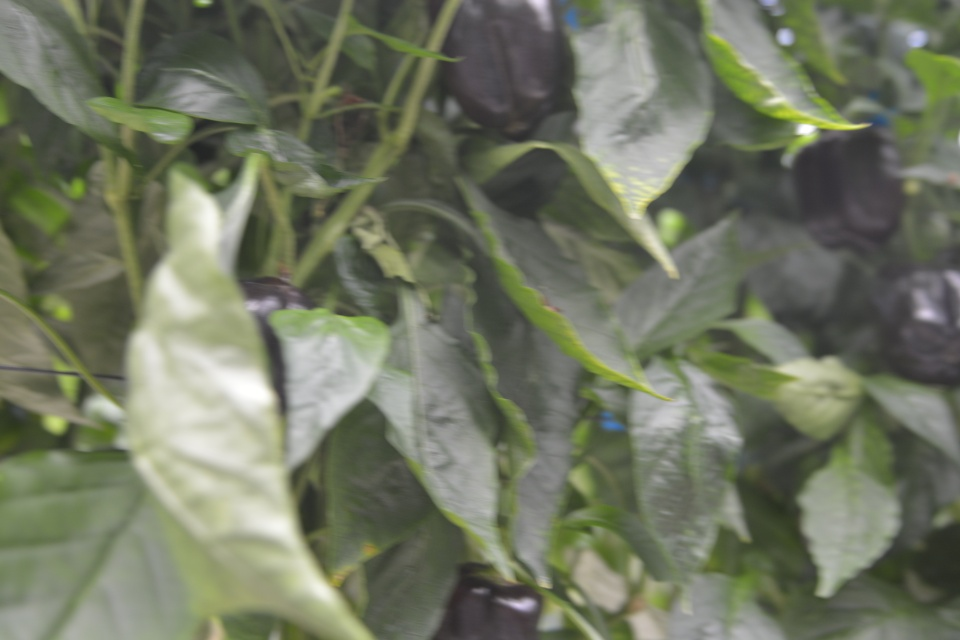fruit: (428, 0, 572, 138), (763, 120, 908, 252), (870, 259, 960, 389), (236, 276, 317, 417), (436, 562, 546, 640)
